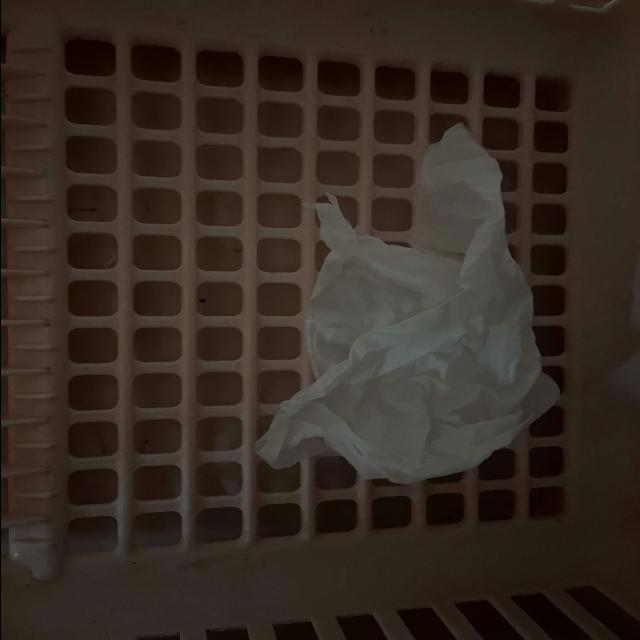Paper: (292, 159, 552, 486)
